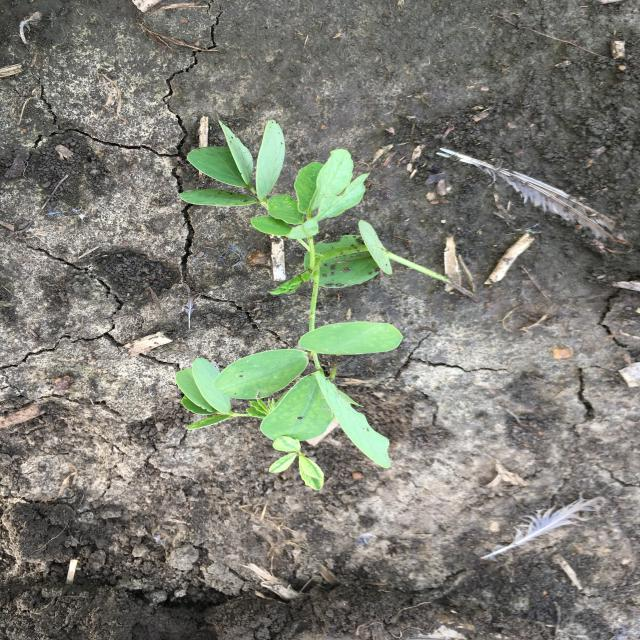Sicklepod: (173, 117, 459, 496)
